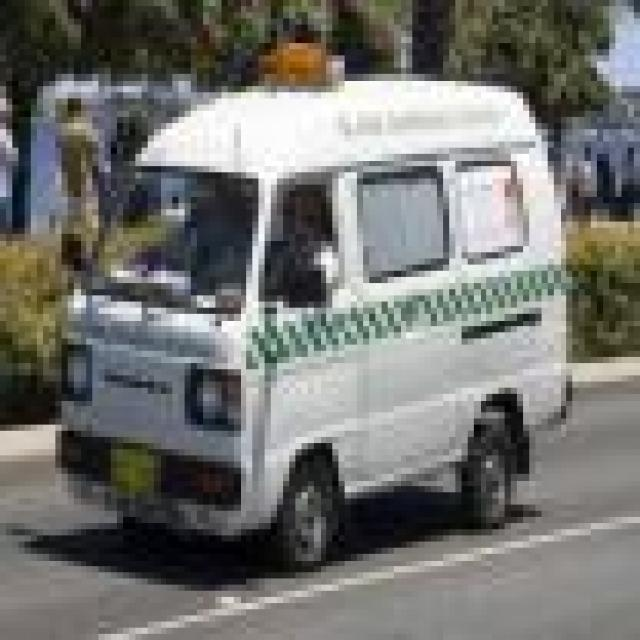emergency-vehicle: (49, 55, 585, 572)
